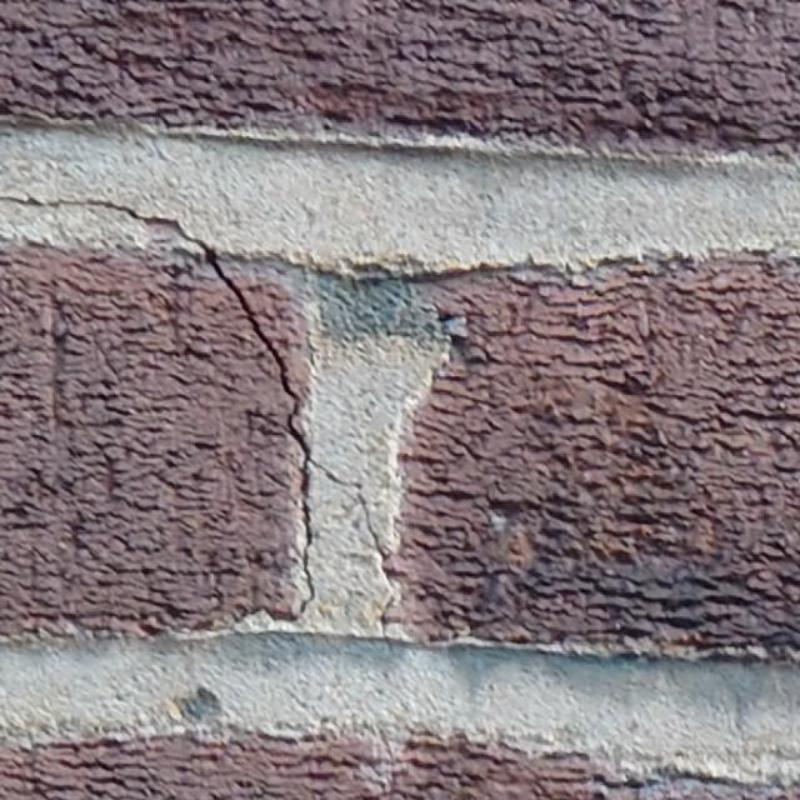crack: (45, 197, 316, 612), (313, 459, 398, 655), (0, 193, 44, 208)
